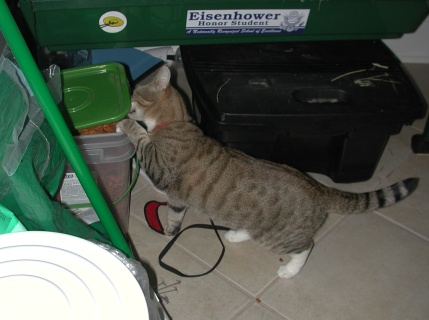Cat: (116, 67, 419, 279)
